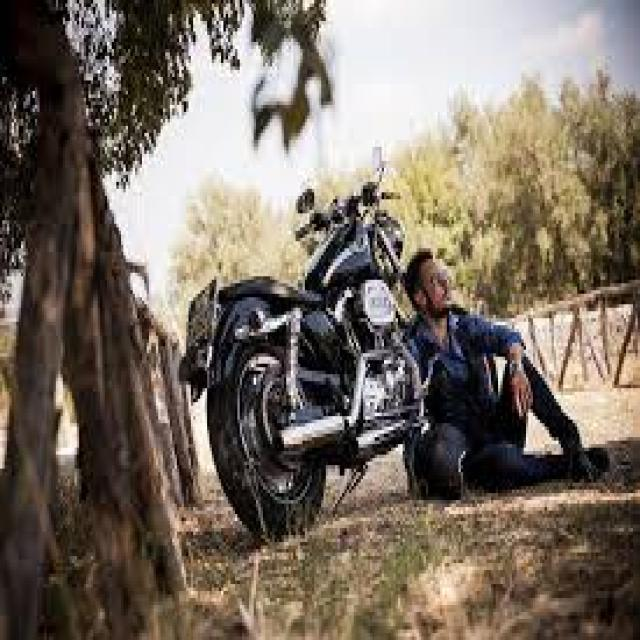MOTORCYCLE: (188, 198, 401, 550)
